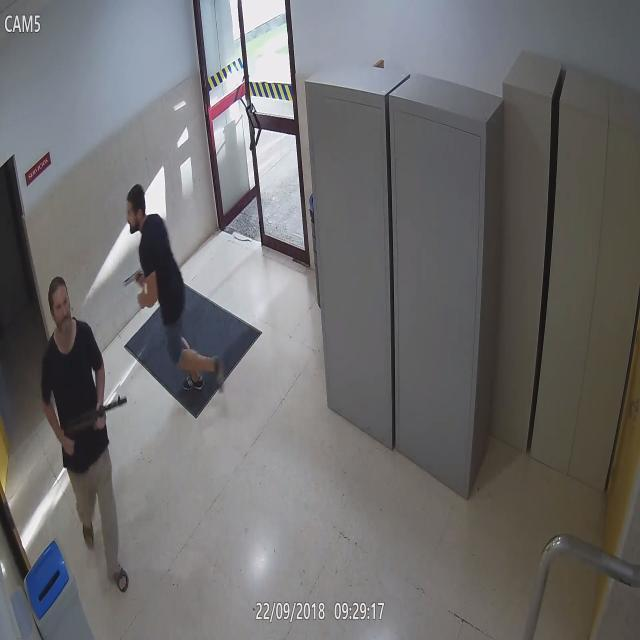Gun: (54, 388, 135, 450), (120, 268, 151, 296)
